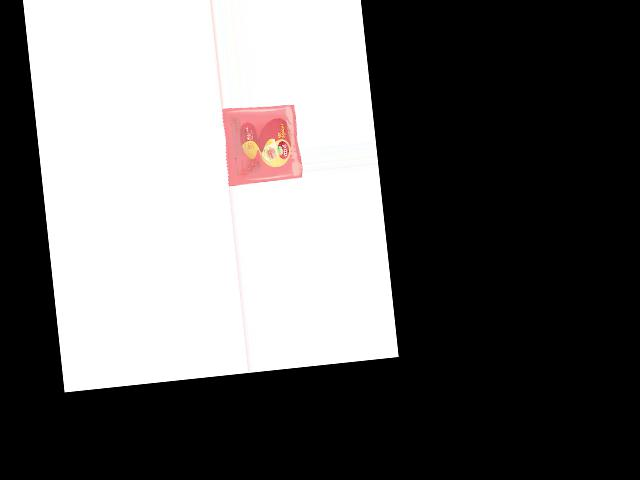cheese: (220, 103, 302, 187)
